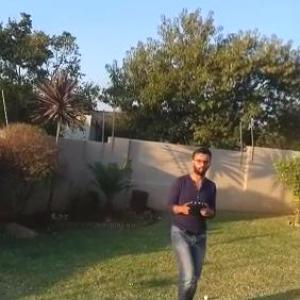follow: (167, 142, 223, 299)
